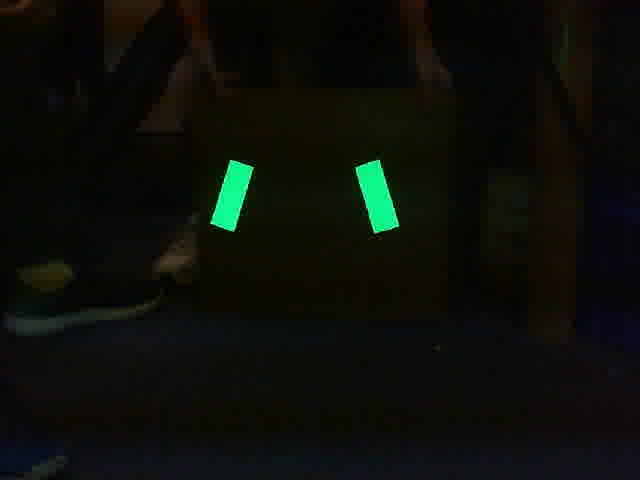target: (209, 157, 400, 234)
